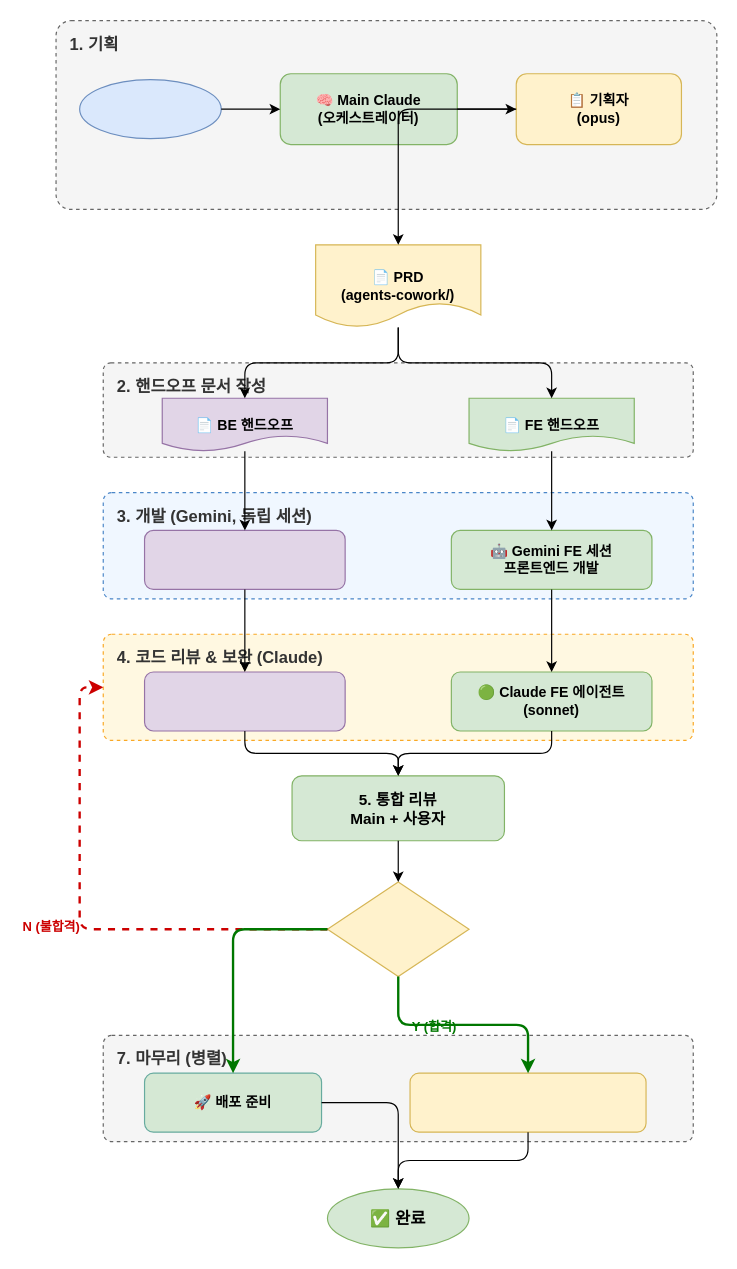
This 737x1269 diagram has some shape labels left out. The box of each missing label's shape, as (x1, y1, x2, y2) in pixels:
6. QA: (326, 881, 469, 976)
👤 사용자: (78, 78, 221, 139)
📝 문서 정리 (개발일지, To-Do, 핸드오프): (409, 1072, 646, 1132)
🔵 Claude BE 에이전트 (opus): (143, 671, 345, 731)
🤖 Gemini BE 세션 백엔드 개발: (143, 529, 345, 589)
